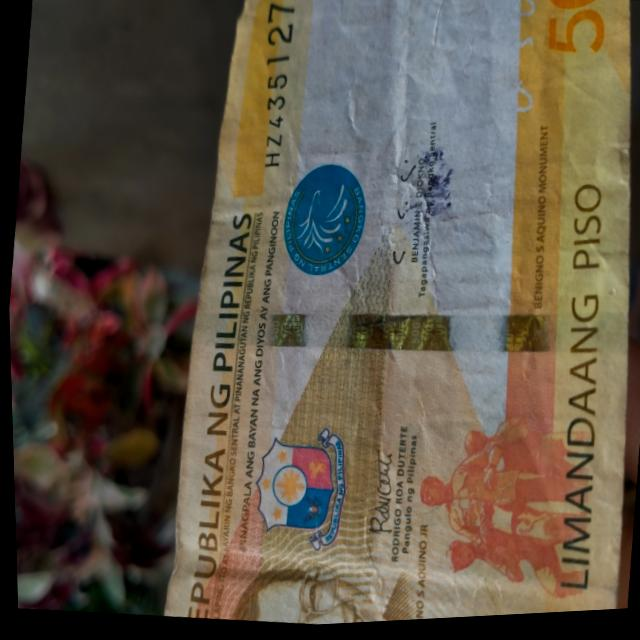security_thread: (187, 268, 632, 401)
serial_number: (242, 0, 304, 183)
watermark: (292, 0, 512, 155)
